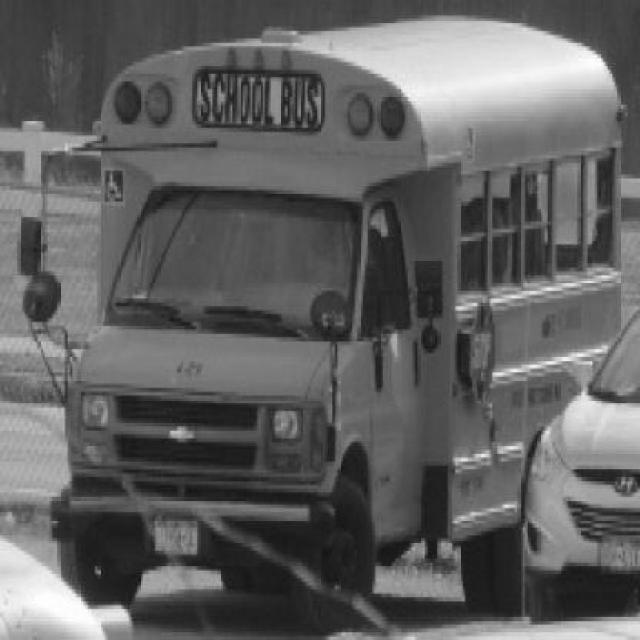Bus- Small: (18, 17, 630, 630)
